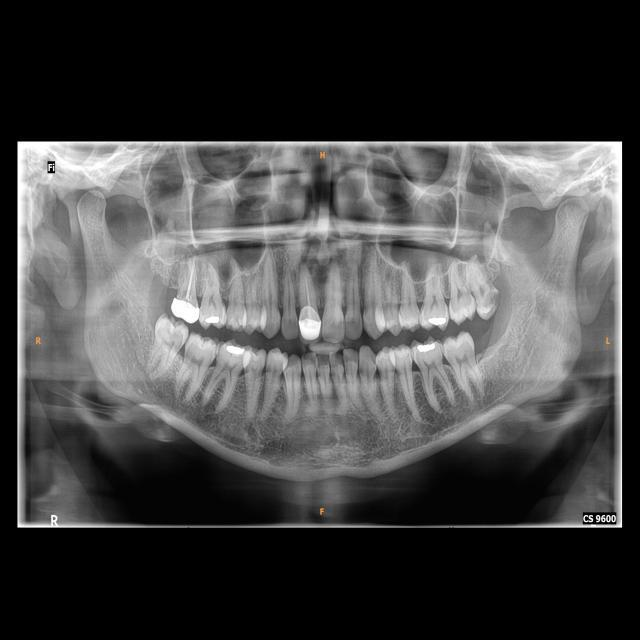dentin-curugu: (487, 288, 499, 309), (317, 354, 329, 368), (359, 363, 367, 378)
dolgu: (226, 341, 247, 359), (416, 341, 438, 357), (426, 314, 449, 328), (203, 316, 222, 326)
kanal-tedavisi: (182, 259, 196, 298), (302, 273, 312, 310)
kaplama: (299, 305, 323, 340), (170, 296, 199, 322)
